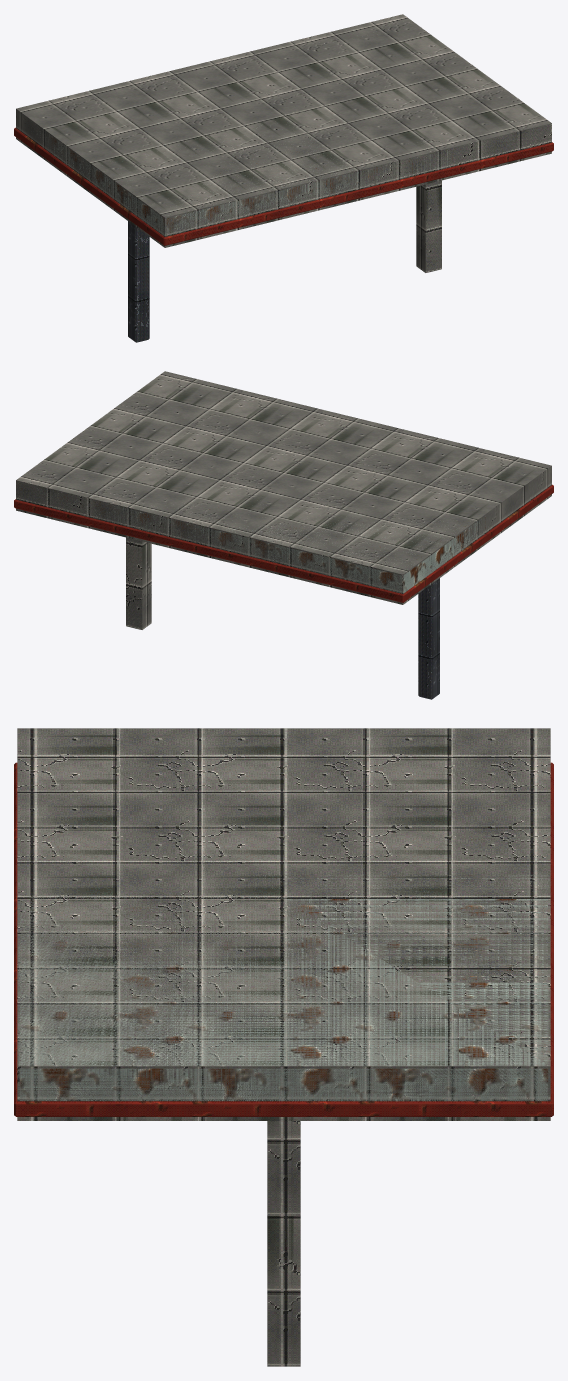
The model's file is prop_gas_canopy.glb.
3 renders of one model, top to bottom at view 1: azimuth 30°, elevation 25°; view 2: azimuth 150°, elevation 25°; view 3: azimuth 270°, elevation 25°, orthographic. The views are drawn at different scales.
Visible parts, largest first — view 1: prop_gas_canopy_col-colonly.002, prop_gas_canopy_mesh, prop_gas_canopy_col-colonly.001; view 2: prop_gas_canopy_col-colonly.002, prop_gas_canopy_mesh, prop_gas_canopy_col-colonly.001; view 3: prop_gas_canopy_col-colonly.002, prop_gas_canopy_mesh, prop_gas_canopy_col-colonly.001.
Boxes of the visible parts, x1,y1,x2,y2 form: prop_gas_canopy_col-colonly.002: (16,14,551,247); prop_gas_canopy_mesh: (14,123,553,342); prop_gas_canopy_col-colonly.001: (416,180,441,272); prop_gas_canopy_col-colonly.002: (16,371,551,604); prop_gas_canopy_mesh: (14,484,553,699); prop_gas_canopy_col-colonly.001: (126,537,151,629); prop_gas_canopy_col-colonly.002: (17,728,550,1120); prop_gas_canopy_mesh: (14,762,553,1116); prop_gas_canopy_col-colonly.001: (267,1121,300,1366).
Size of what is drawn, in the model's own units: 12.1 by 5.55 by 8.1.
Materials: 5 (5 with a texture image).
